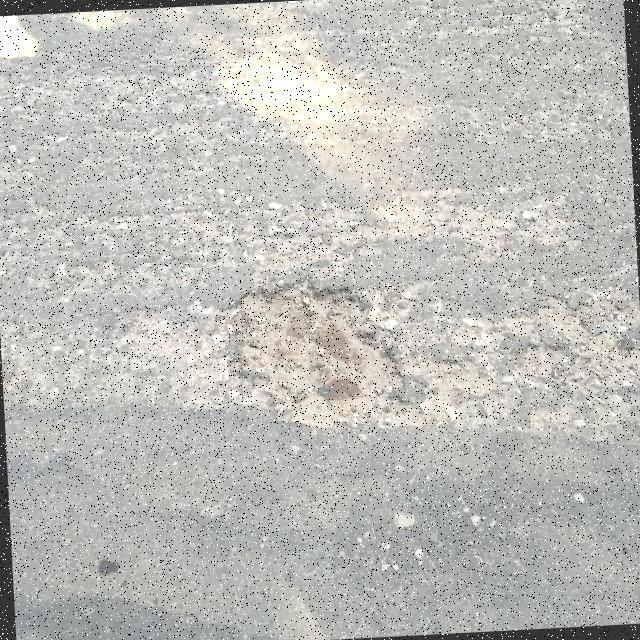Pothole: (221, 280, 411, 432)
